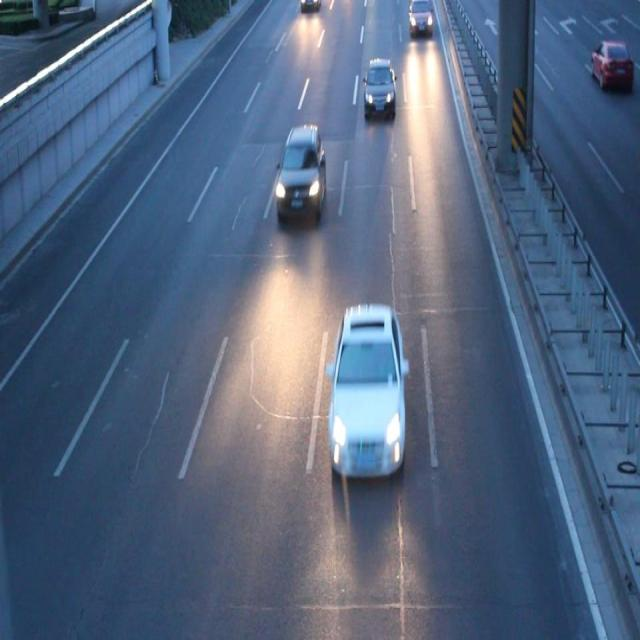car: (326, 302, 408, 480), (275, 125, 325, 222), (362, 59, 395, 119), (407, 1, 432, 37)
